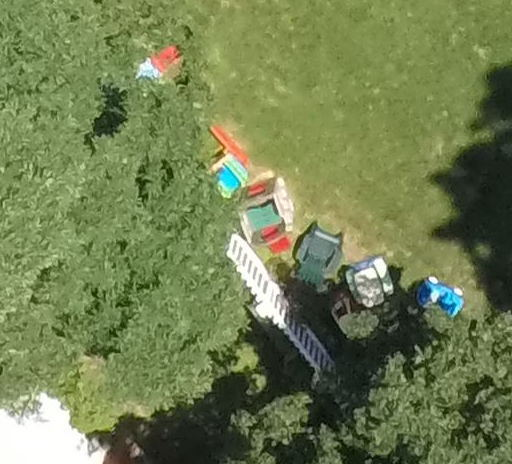toy: (410, 265, 475, 322)
